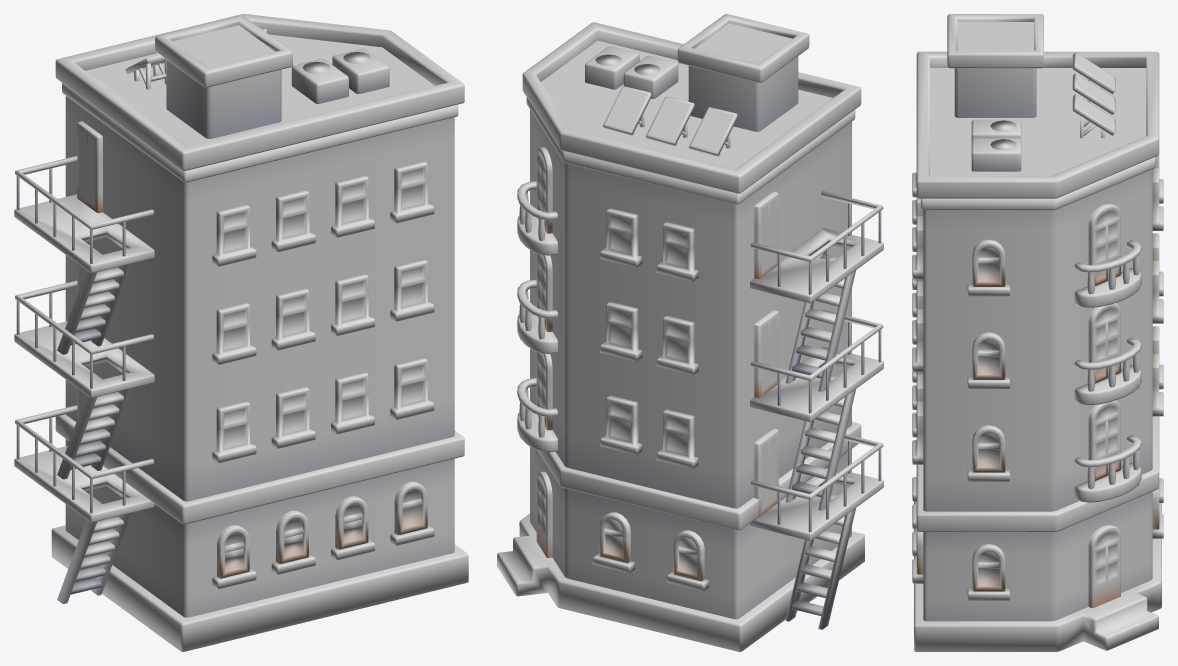
The model's file is Building_091.fbx.
3 views of the same model, side by side, from view 1: azimuth 30°, elevation 25°; view 2: azimuth 150°, elevation 25°; view 3: azimuth 270°, elevation 25° (orthographic). The views are drawn at different scales.
Parts seen in each view (by area): view 1: Building_091; view 2: Building_091; view 3: Building_091.
Boxes of the visible parts, bbox=[...] form: Building_091: bbox=[14, 14, 468, 651]; Building_091: bbox=[497, 14, 883, 651]; Building_091: bbox=[912, 14, 1163, 651].
Bounding box in the file's own units: 1145 × 766 × 1767.
